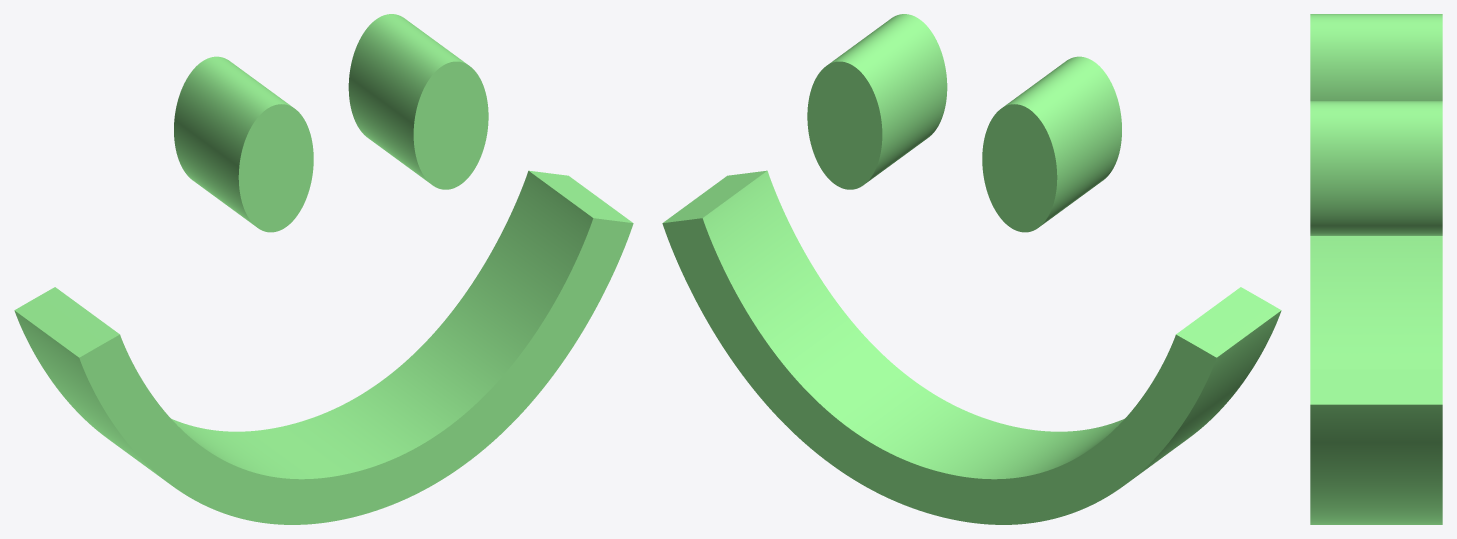
File: smile.gltf
3 renders of one model, left to right at view 1: azimuth 30°, elevation 25°; view 2: azimuth 150°, elevation 25°; view 3: azimuth 270°, elevation 25°, orthographic. The views are drawn at different scales.
Bounding box in the file's own units: 0.0986 × 0.0733 × 0.02.
